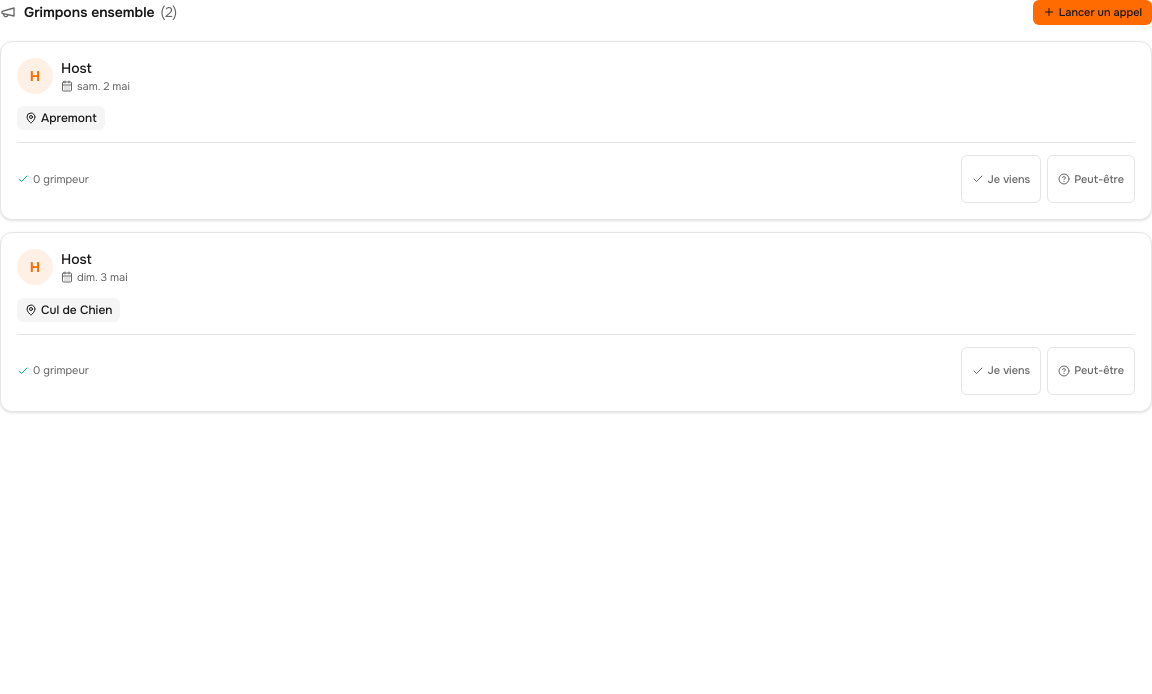
CallsFeed › opens the form when the "Lancer un appel" button is clicked
The width and height of the screenshot is (1152, 694).
Click the button with test id "calls-feed-open-form" at (1092, 12), box x1=1033 y1=0 x2=1151 y2=24
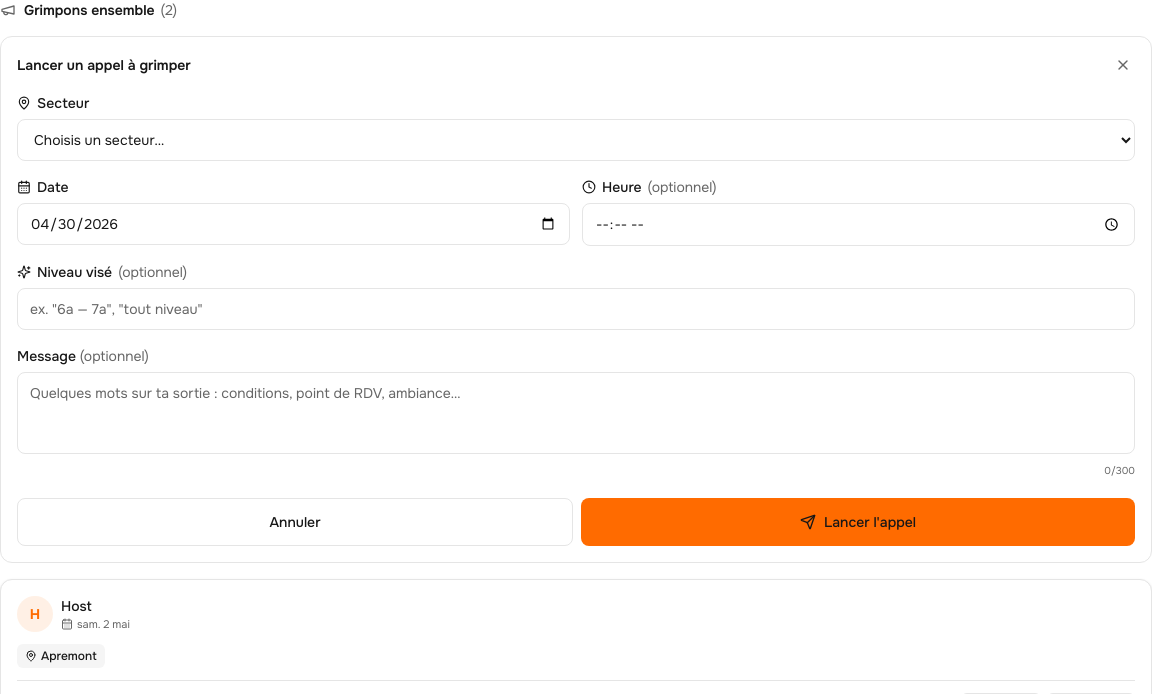
Check: the heading "Lancer un appel à grimper" is shown, box x1=17 y1=55 x2=191 y2=75
